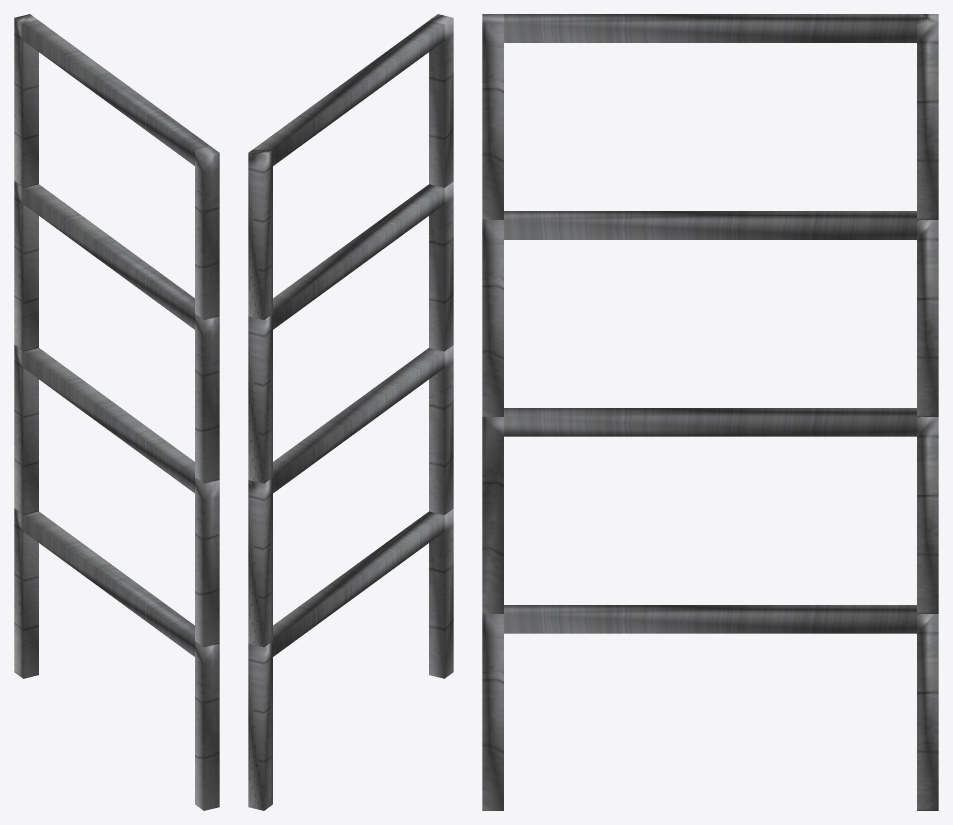
Rendered from Leader1.fbx.
3 renders of one model, left to right at view 1: azimuth 30°, elevation 25°; view 2: azimuth 150°, elevation 25°; view 3: azimuth 270°, elevation 25°, orthographic. The views are drawn at different scales.
Visible parts, largest first — view 1: Cube.001; view 2: Cube.001; view 3: Cube.001.
Part boxes in pixels (bbox=[...]): Cube.001: bbox=[14, 14, 219, 810]; Cube.001: bbox=[248, 14, 453, 810]; Cube.001: bbox=[482, 14, 938, 810].
Size of the model in its own units: 2.5 by 100 by 52.5.
